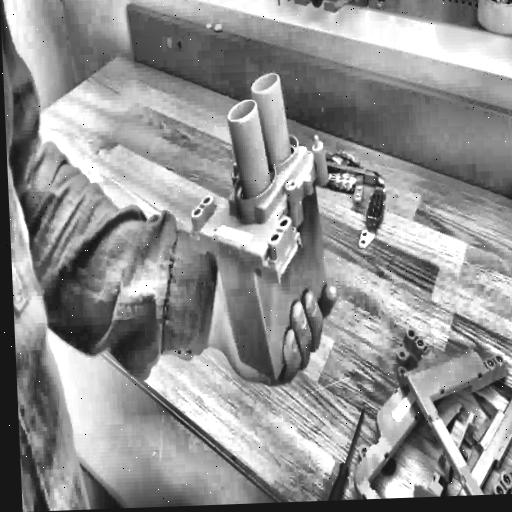connector: (182, 60, 342, 381)
